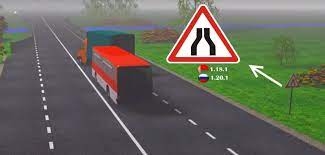1.18.1: (166, 6, 241, 63)
